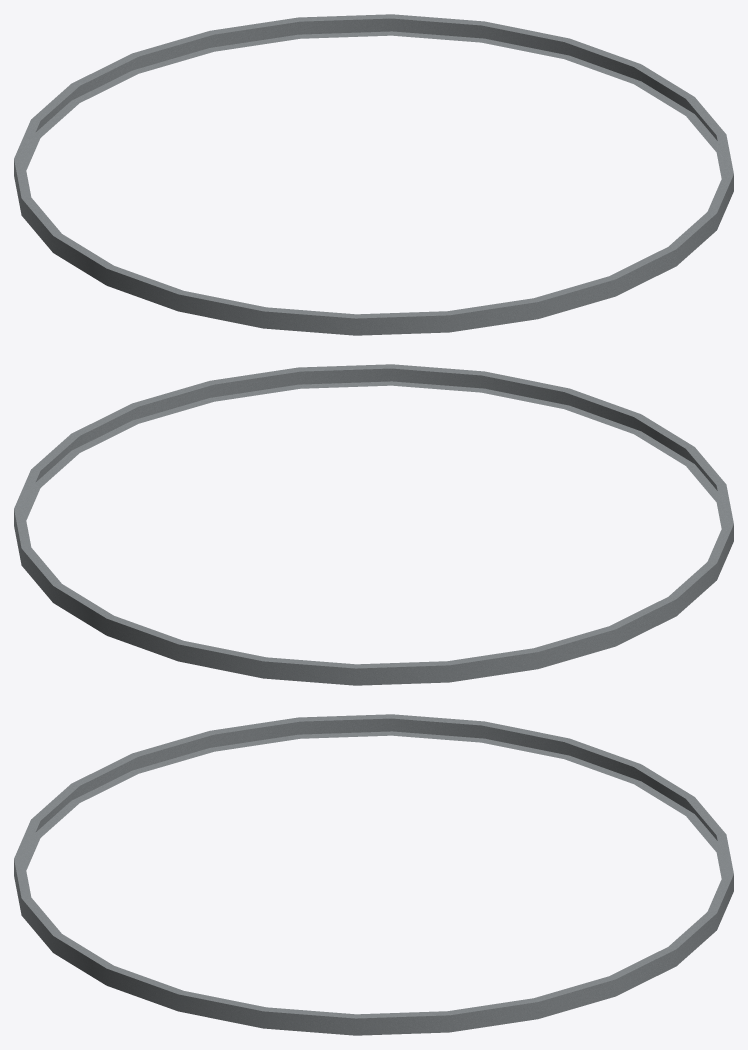
Rendered from original-22.obj.
3 views of the same model, one above another, from view 1: azimuth 30°, elevation 25°; view 2: azimuth 150°, elevation 25°; view 3: azimuth 270°, elevation 25° (orthographic).
Visible parts, largest first — view 1: #ID153; view 2: #ID153; view 3: #ID153.
Boxes of the visible parts, x1,y1,x2,y2 form: #ID153: (14, 14, 733, 335); #ID153: (14, 364, 733, 685); #ID153: (14, 714, 733, 1035).
Bounding box in the file's own units: 1.22 × 0.032 × 1.22.
